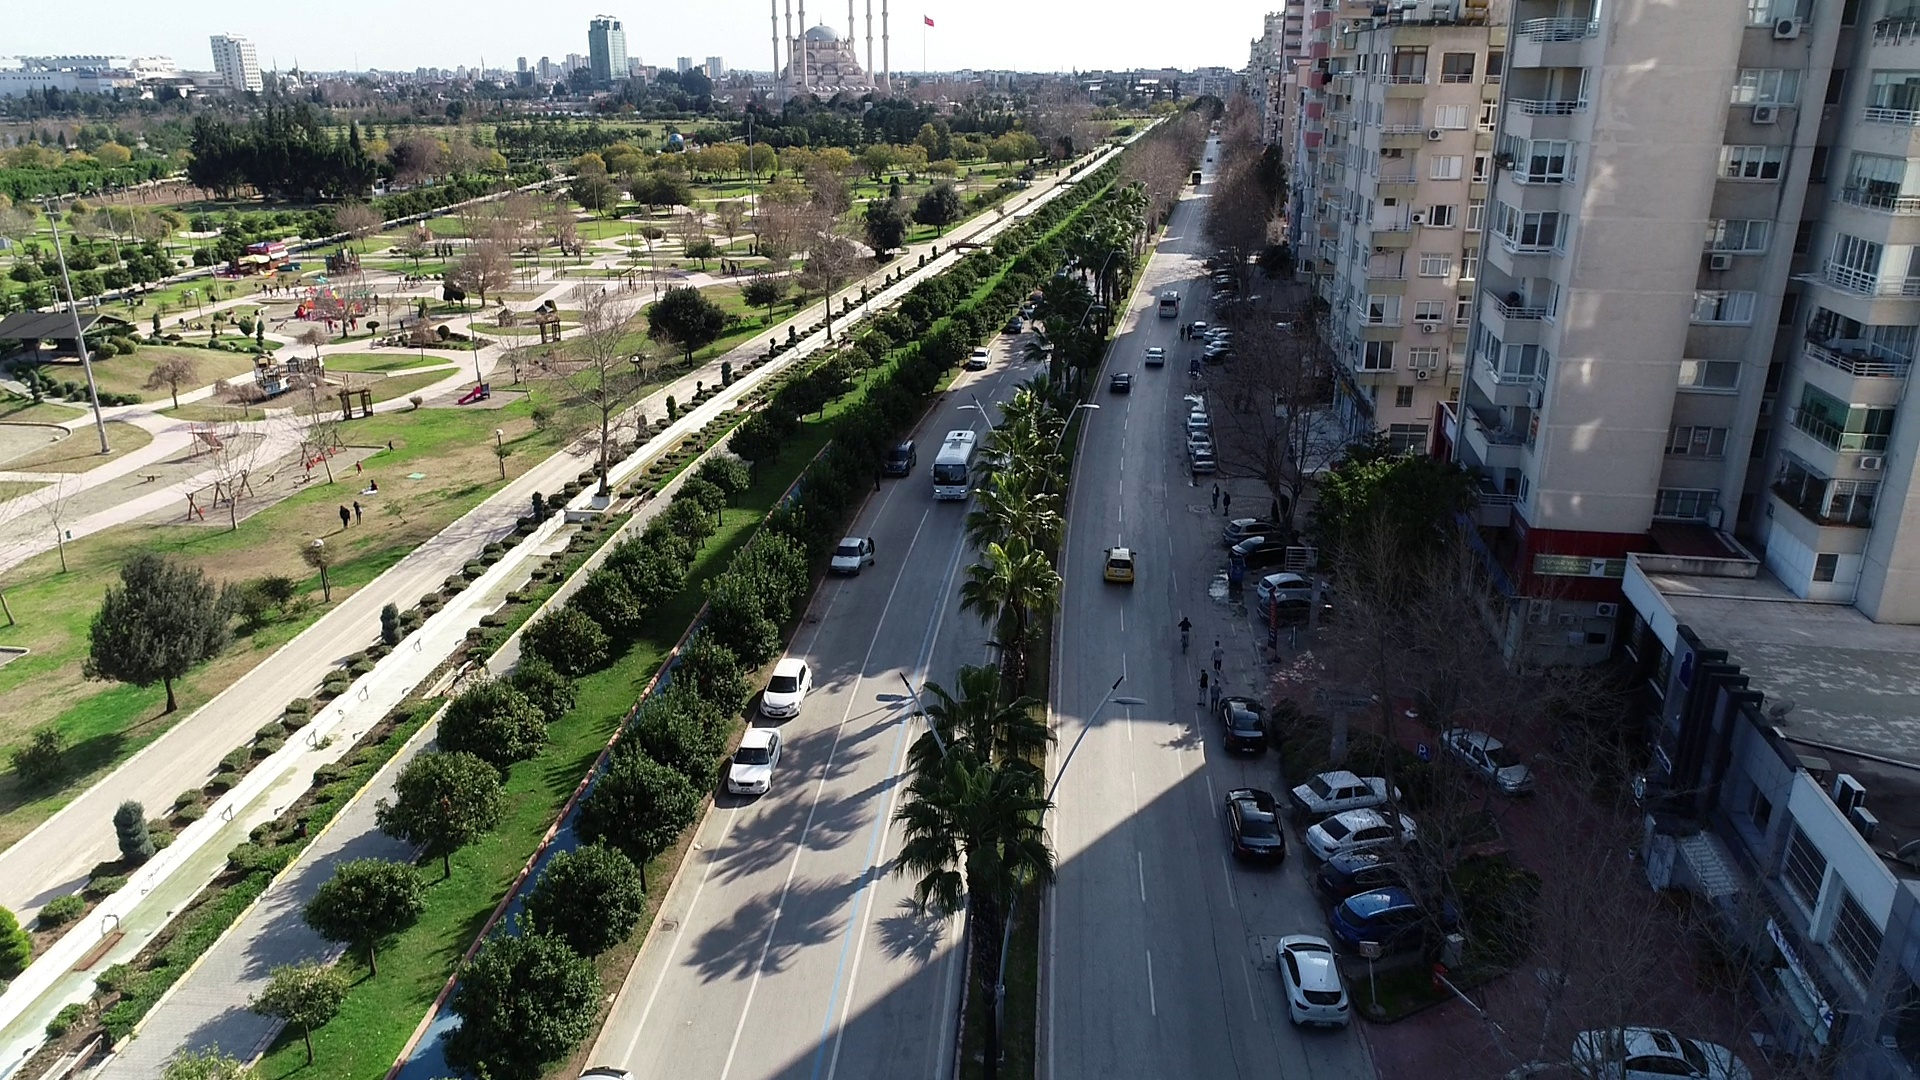bus: (928, 426, 985, 506), (1156, 288, 1182, 322)
car: (1335, 887, 1483, 954), (1273, 935, 1353, 1035), (1299, 807, 1427, 858), (1220, 787, 1289, 875), (1441, 723, 1526, 792), (1291, 771, 1411, 817), (726, 726, 786, 798), (1219, 695, 1271, 766), (759, 658, 816, 721), (827, 535, 876, 579), (1097, 541, 1139, 589), (879, 438, 919, 482), (1187, 449, 1223, 480), (1180, 430, 1218, 456), (1179, 410, 1216, 433), (967, 344, 993, 373), (1144, 342, 1168, 372), (1109, 369, 1133, 398), (1000, 313, 1027, 336)
person: (1195, 666, 1211, 711), (1210, 639, 1228, 676), (1206, 478, 1221, 511), (337, 503, 353, 531), (1211, 676, 1221, 717), (351, 499, 365, 527), (1220, 488, 1233, 517), (351, 460, 367, 479), (1175, 322, 1187, 345), (272, 279, 284, 299), (1187, 319, 1193, 345), (262, 280, 268, 297)
